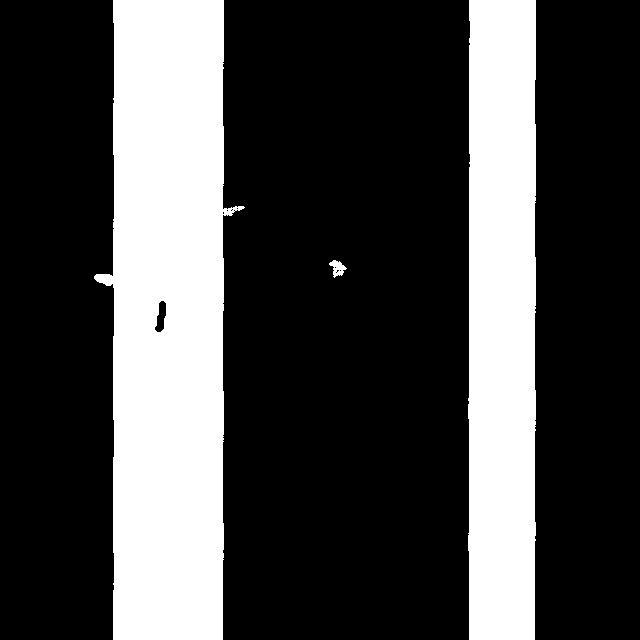copper: (145, 291, 175, 341)
mousebite: (206, 196, 254, 225), (84, 264, 125, 295)
pin-hole: (319, 250, 356, 287)
